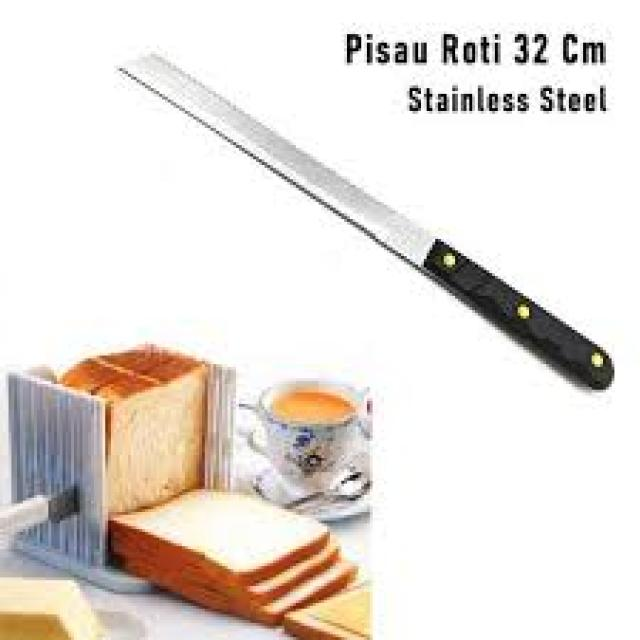Knife: (119, 54, 614, 393)
